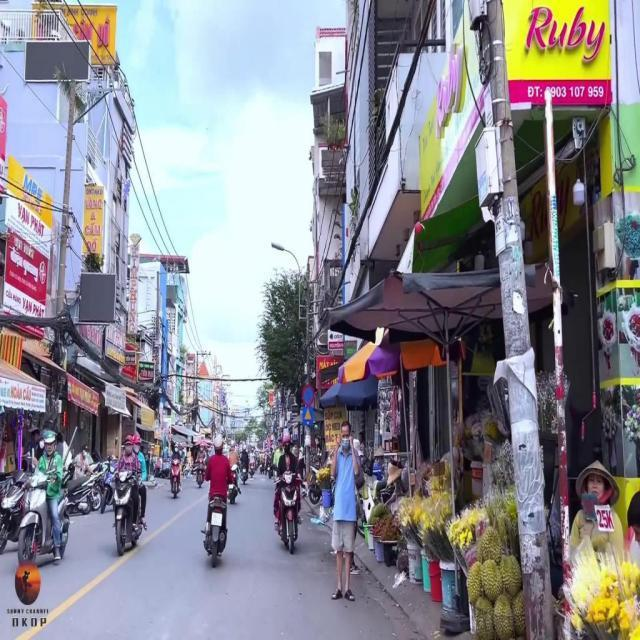131a-cam-do-xe: (301, 382, 315, 406)
442-cho: (302, 406, 314, 424)
